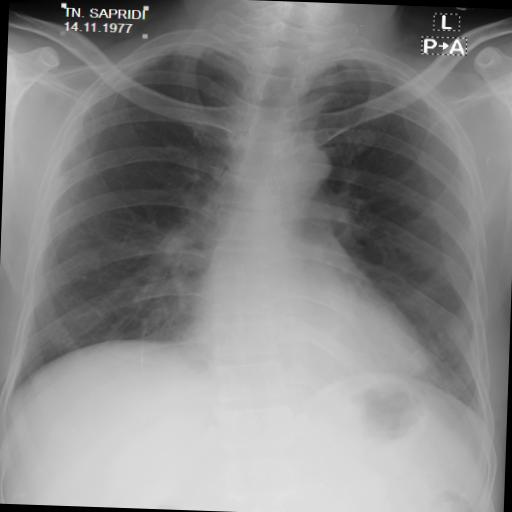kardiomegali: (0, 14, 511, 425)
